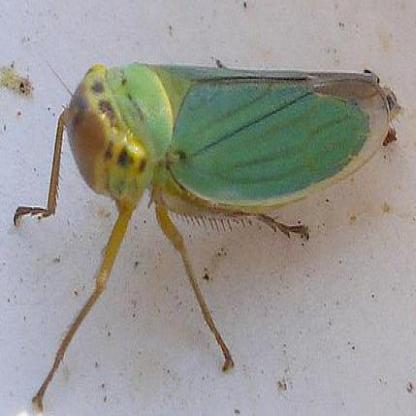Green-Leafhopper: (9, 47, 403, 405)
